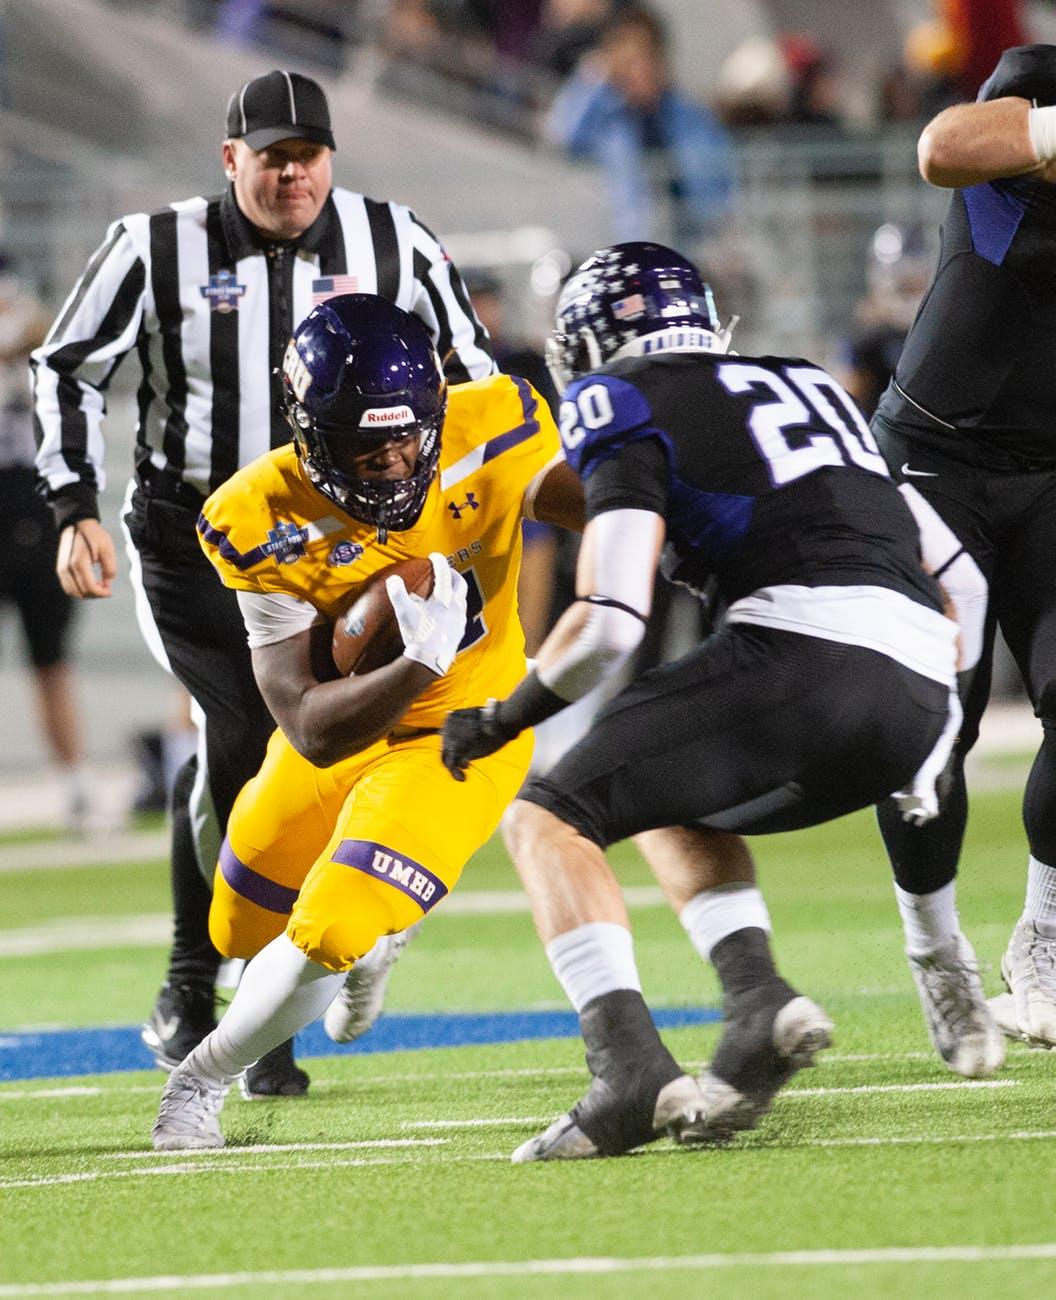helmet: (283, 303, 457, 511), (553, 257, 731, 349)
